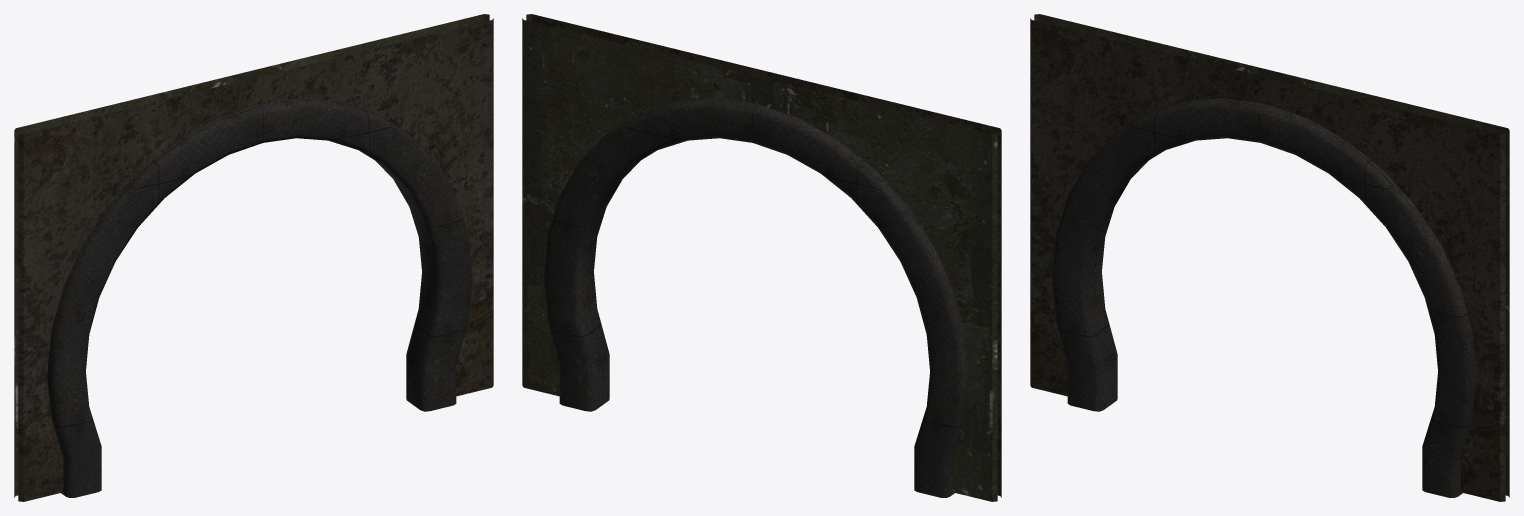
Rendered from tunnel_hole_2.obj.
3 views of the same model, side by side, from view 1: azimuth 30°, elevation 25°; view 2: azimuth 150°, elevation 25°; view 3: azimuth 330°, elevation 25° (orthographic).
Parts seen in each view (by area): view 1: tunnel_hole_2; view 2: tunnel_hole_2; view 3: tunnel_hole_2.
Boxes of the visible parts, x1,y1,x2,y2 form: tunnel_hole_2: [14, 14, 493, 501]; tunnel_hole_2: [522, 14, 1001, 501]; tunnel_hole_2: [1030, 14, 1509, 501].
Bounding box in the file's own units: 4.06 × 3.02 × 0.3.
